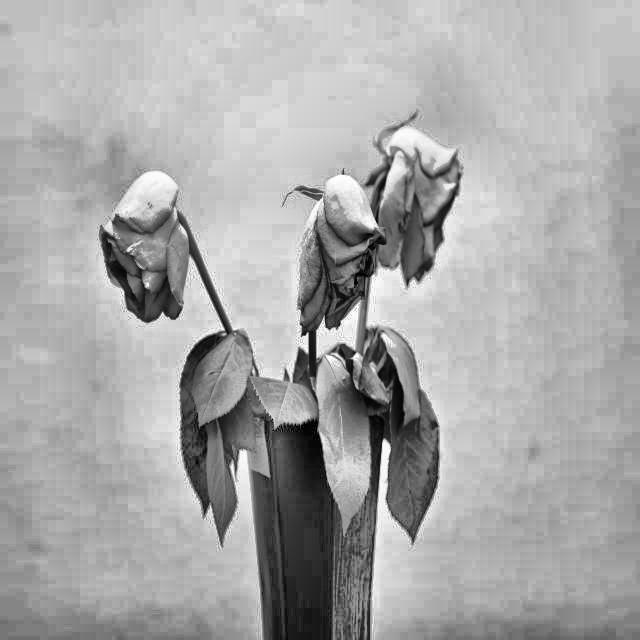plants: (91, 111, 493, 639), (98, 175, 254, 352), (368, 322, 430, 454)
